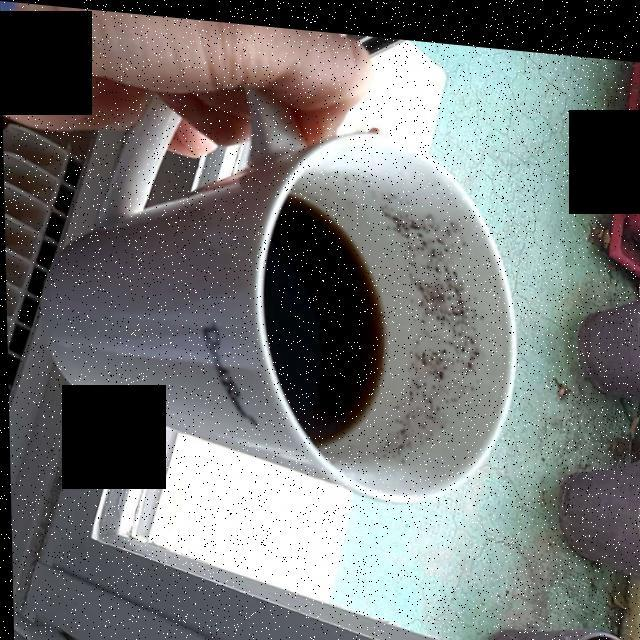coffee: (261, 188, 382, 437)
